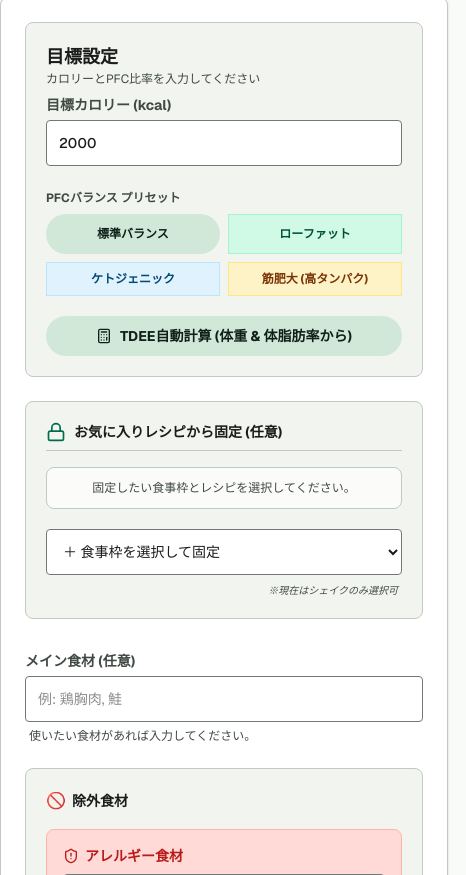
it: InputForm - カロリー超過バリデーション (isCalorieExceeded) › 超過時にエラーメッセージが表示される
The image size is (466, 875).
Replace the text in the number field with "200" at [224, 143], box [46,120,402,166]
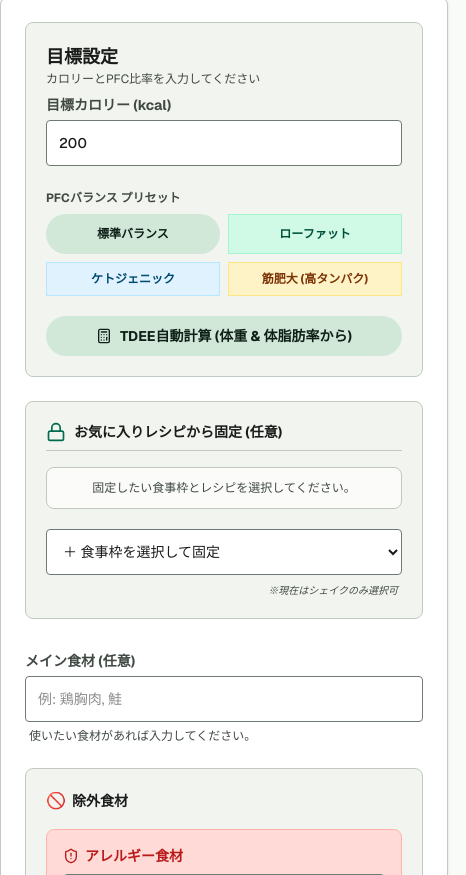
Select "1食目を固定" in the dropdown at [224, 552], box [46,529,402,575]
(page scrolled)
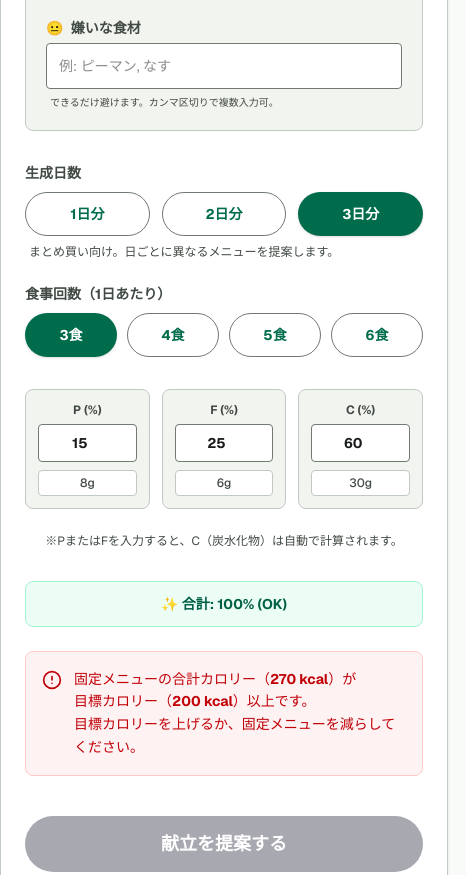
Now the text "固定メニューの合計カロリー" is shown, box [74,670,270,688]
Now the text "目標カロリーを上げるか" is shown, box [74,715,395,756]
